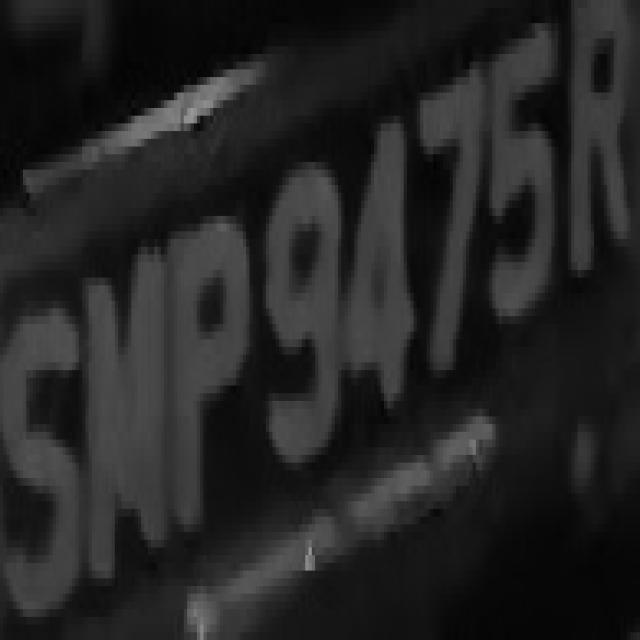4: (328, 108, 424, 463)
5: (486, 46, 548, 347)
7: (407, 54, 492, 409)
9: (253, 170, 341, 486)
M: (89, 247, 158, 601)
P: (177, 200, 256, 548)
R: (548, 16, 640, 316)
S: (10, 285, 82, 625)
